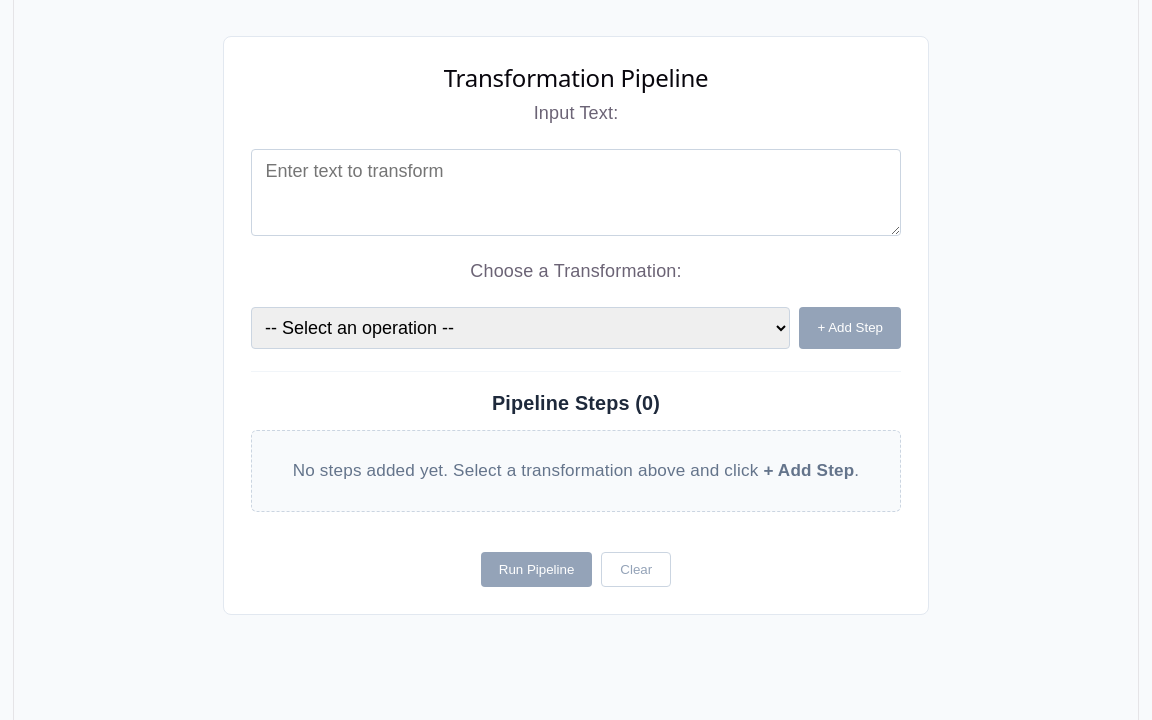
it: TransformationPipeline › managing steps › shows a message for steps without parameters
This screenshot has width=1152, height=720.
Select "Uppercase" in the dropdown labelled "Choose a Transformation:" at coordinates (521, 328), box [251, 307, 790, 349]
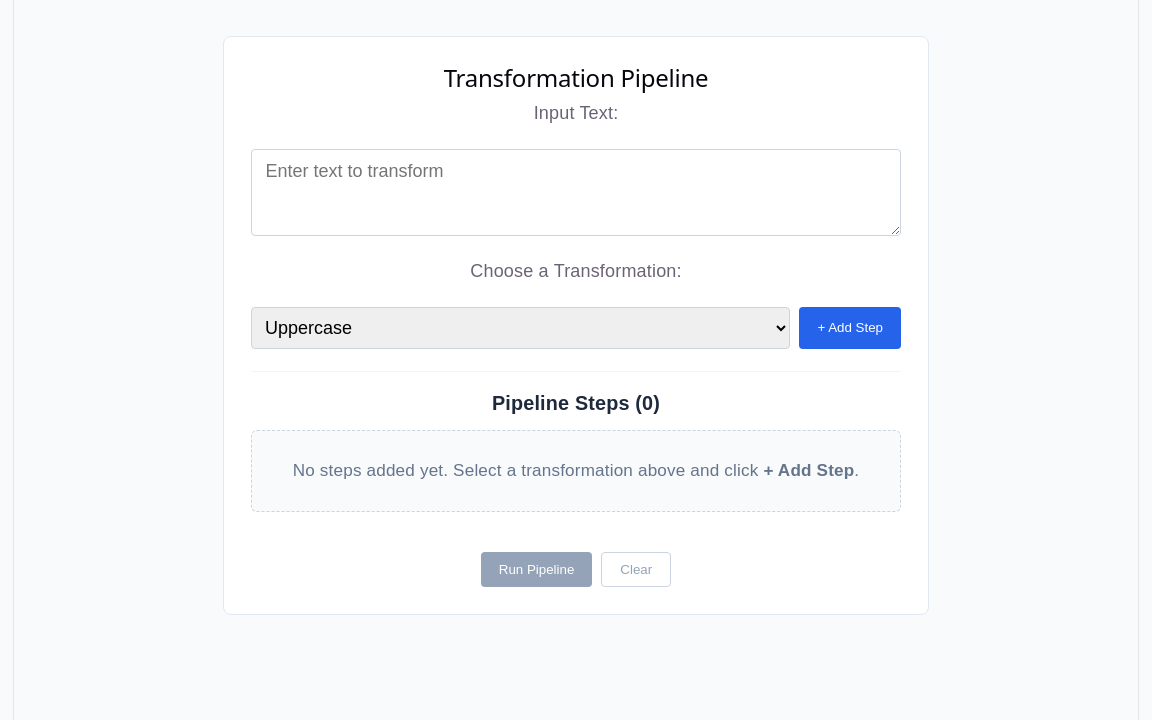
Click the button "+ Add Step" at coordinates (850, 328), box [799, 307, 901, 349]
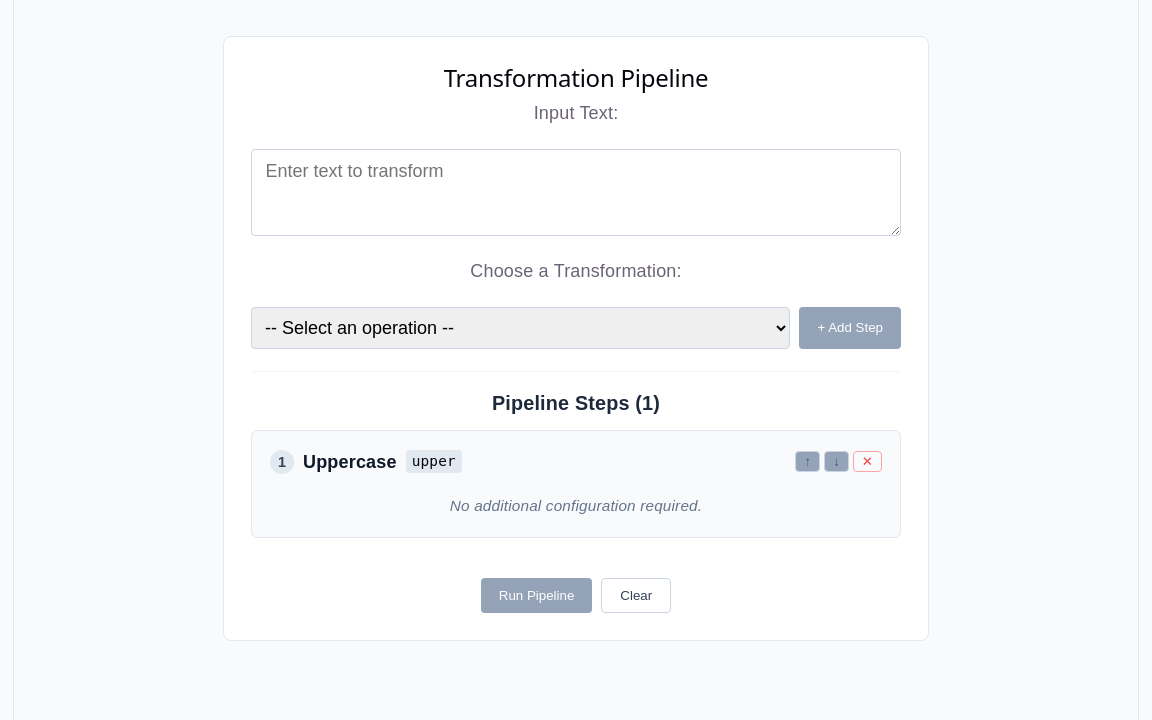
Expected: the text "No additional configuration required." is shown, [450, 497, 702, 514]
